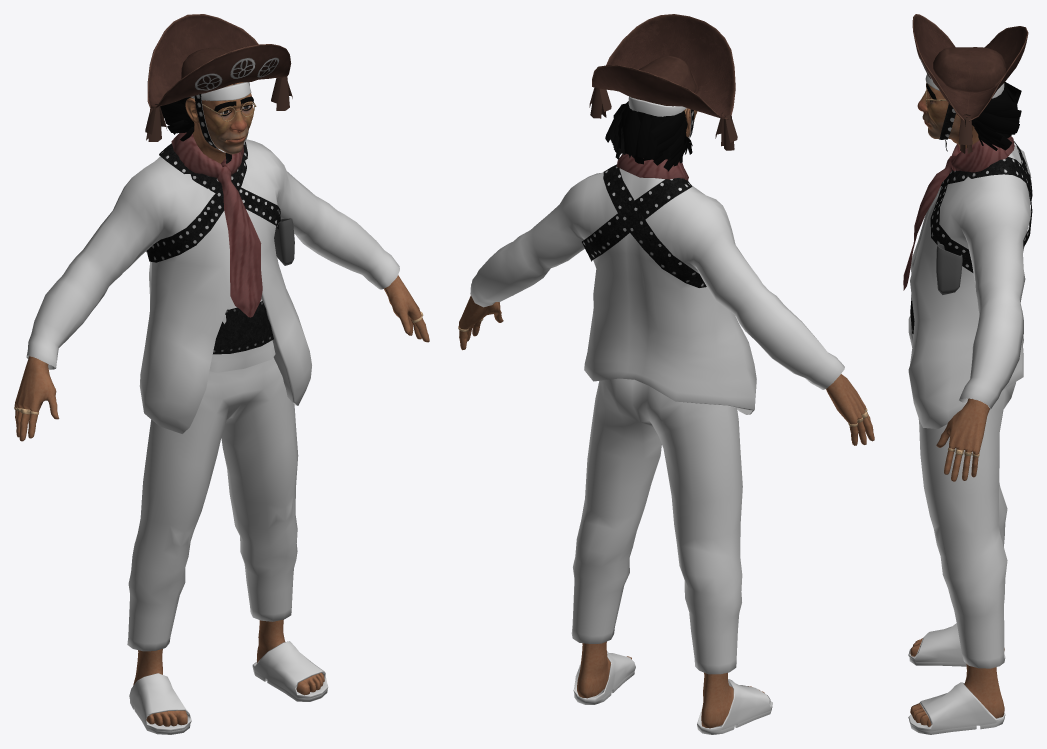
The model's file is Lampiao_low.fbx.
The picture shows the model from 3 angles, left to right: view 1: azimuth 30°, elevation 25°; view 2: azimuth 150°, elevation 25°; view 3: azimuth 270°, elevation 25°; orthographic projection.
Visible parts, largest first — view 1: Jacket_low, Phants_low, Hat_low, Scarf_low, Slipper_low, Chest_Belt_low, Hands, Head, Feet, Belt_low, Shirt_low, Hat_Asset_low (+2 smaller); view 2: Jacket_low, Phants_low, Hat_low, Chest_Belt_low, Hair_low, Slipper_low, Feet, Hands, Scarf_low, Hat_Asset_low; view 3: Jacket_low, Phants_low, Hat_low, Slipper_low, Hands, Chest_Belt_low, Scarf_low, Hair_low, Feet, Head, Pistol_Pocket_low, Hat_Asset_low (+1 smaller).
Boxes of the visible parts, x1,y1,x2,y2 form: Jacket_low: (26, 139, 399, 433); Phants_low: (127, 357, 298, 651); Hat_low: (147, 14, 291, 110); Scarf_low: (171, 132, 262, 317); Slipper_low: (129, 641, 328, 734); Chest_Belt_low: (146, 142, 280, 262); Hands: (14, 275, 429, 441); Head: (185, 82, 253, 163); Feet: (133, 619, 324, 726); Belt_low: (213, 301, 273, 354); Shirt_low: (209, 297, 275, 372); Hat_Asset_low: (145, 77, 292, 141); Jacket_low: (470, 168, 844, 414); Phants_low: (571, 378, 742, 674); Hat_low: (592, 14, 735, 119); Chest_Belt_low: (582, 164, 706, 287); Hair_low: (605, 101, 692, 171); Slipper_low: (573, 651, 772, 734); Feet: (577, 641, 764, 728); Hands: (459, 295, 874, 445); Scarf_low: (616, 153, 688, 180); Hat_Asset_low: (589, 87, 737, 150); Jacket_low: (908, 145, 1031, 428); Phants_low: (918, 382, 1015, 668); Hat_low: (912, 14, 1028, 121); Slipper_low: (908, 623, 1005, 734); Hands: (936, 398, 989, 481); Chest_Belt_low: (930, 141, 1032, 272); Scarf_low: (903, 136, 1014, 290); Hair_low: (971, 82, 1021, 150); Feet: (910, 638, 1004, 726); Head: (917, 82, 979, 148); Pistol_Pocket_low: (936, 243, 962, 294); Hat_Asset_low: (958, 114, 972, 153).
Size of the model in its own units: 119 by 185 by 32.39.
